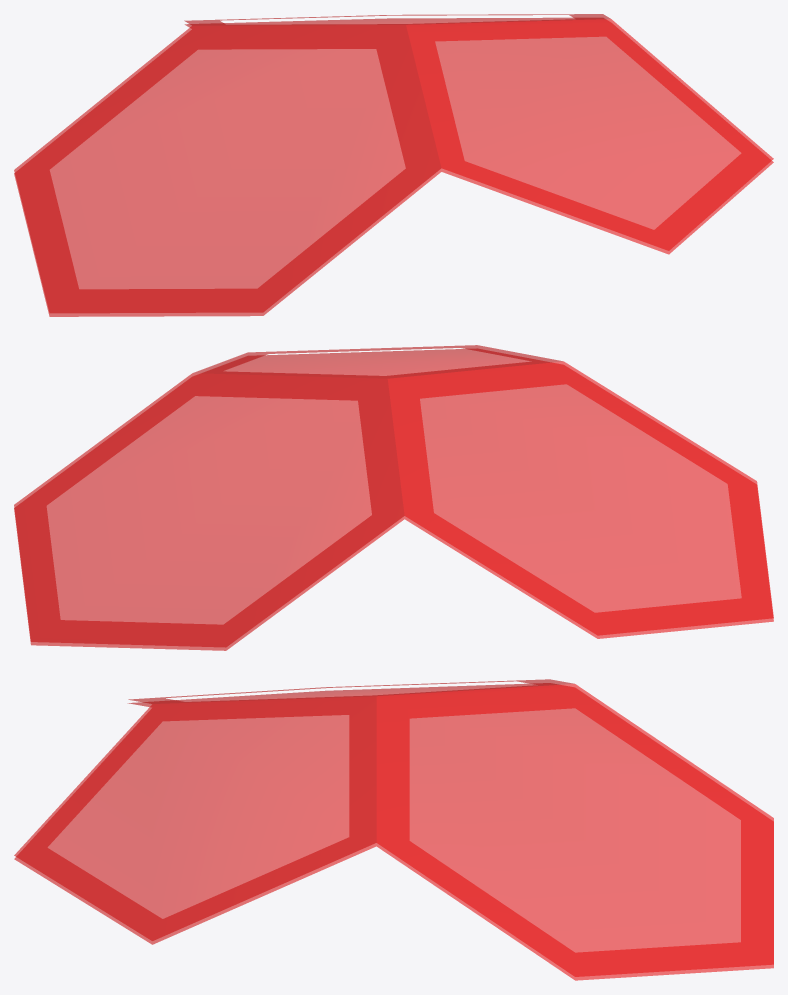
Rendered from hexagon_old.fbx.
3 renders of one model, top to bottom at view 1: azimuth 30°, elevation 25°; view 2: azimuth 150°, elevation 25°; view 3: azimuth 270°, elevation 25°, orthographic. The views are drawn at different scales.
Parts seen in each view (by area): view 1: football3; view 2: football3; view 3: football3.
Boxes of the visible parts, <box> form: football3: <box>14,14,773,316</box>; football3: <box>14,345,773,650</box>; football3: <box>14,679,773,980</box>.
Size of the model in its own units: 0.00122 by 0.000311 by 0.00117.
